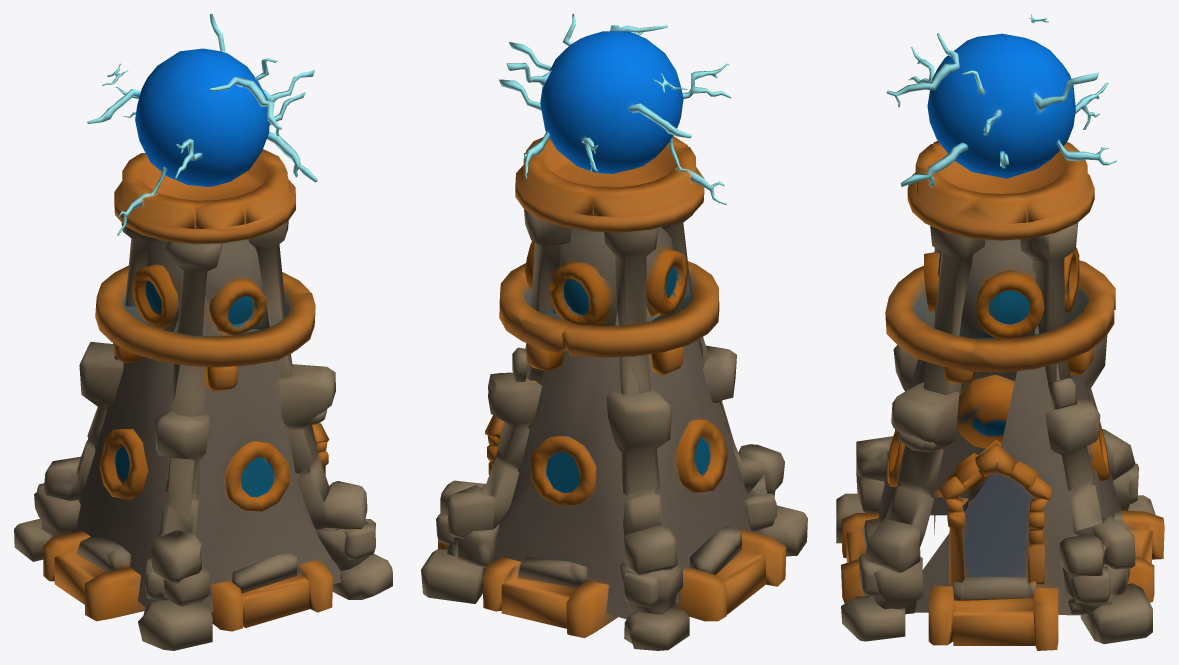
3 views of the same model, side by side, from view 1: azimuth 30°, elevation 25°; view 2: azimuth 150°, elevation 25°; view 3: azimuth 270°, elevation 25° (orthographic). The views are drawn at different scales.
Parts seen in each view (by area): view 1: tripo_node_4d309c77-9e06-4ae1-8435-4a24fa8a655f; view 2: tripo_node_4d309c77-9e06-4ae1-8435-4a24fa8a655f; view 3: tripo_node_4d309c77-9e06-4ae1-8435-4a24fa8a655f.
Part boxes in pixels (x1=…): tripo_node_4d309c77-9e06-4ae1-8435-4a24fa8a655f: x1=14, y1=14, x2=392, y2=650; tripo_node_4d309c77-9e06-4ae1-8435-4a24fa8a655f: x1=421, y1=14, x2=807, y2=650; tripo_node_4d309c77-9e06-4ae1-8435-4a24fa8a655f: x1=836, y1=14, x2=1164, y2=650.
Bounding box in the file's own units: 0.5723 × 0.998 × 0.5488.
1 material, 1 textured.
